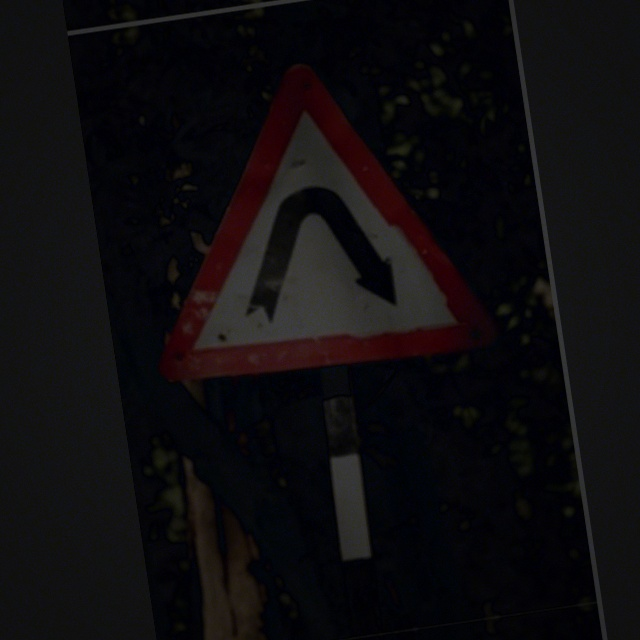Right_Hair_Pin_Bend: (128, 43, 492, 391)
